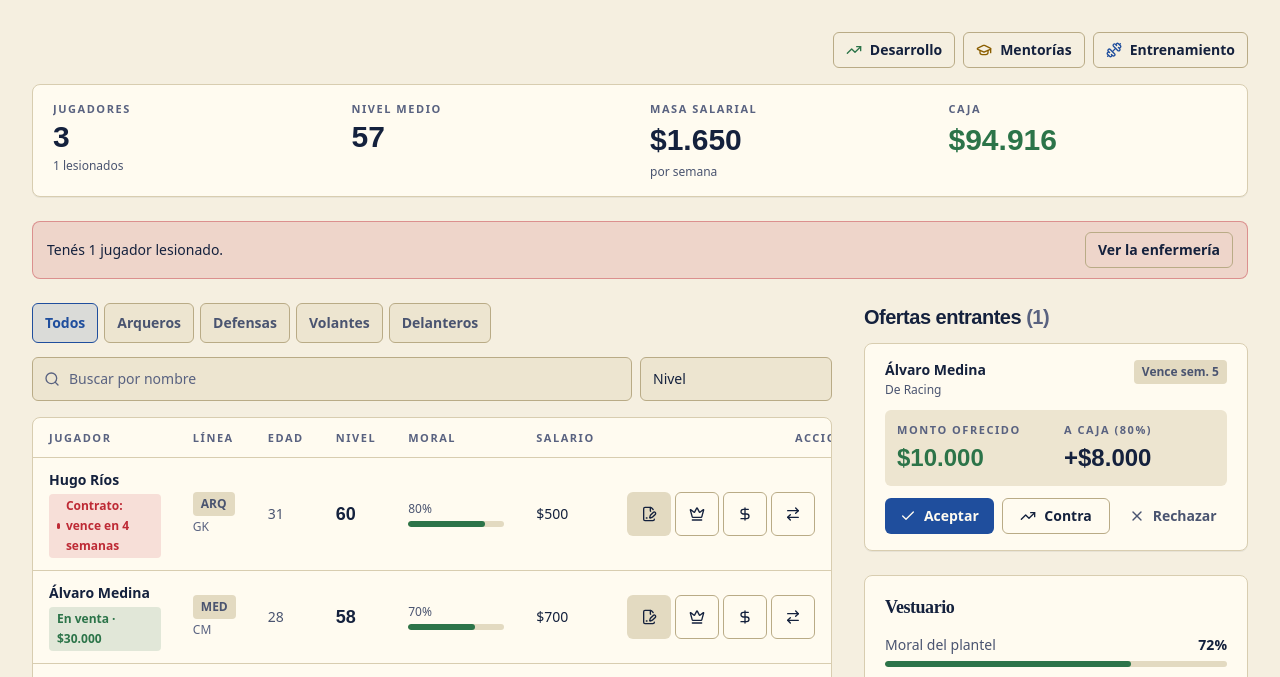
Scenario: pantalla Plantel › filtra por línea y por búsqueda (sin tildes) y permite quitar los filtros
Click the radio button labelled "Arqueros" at (149, 322), box [104,302,194,342]
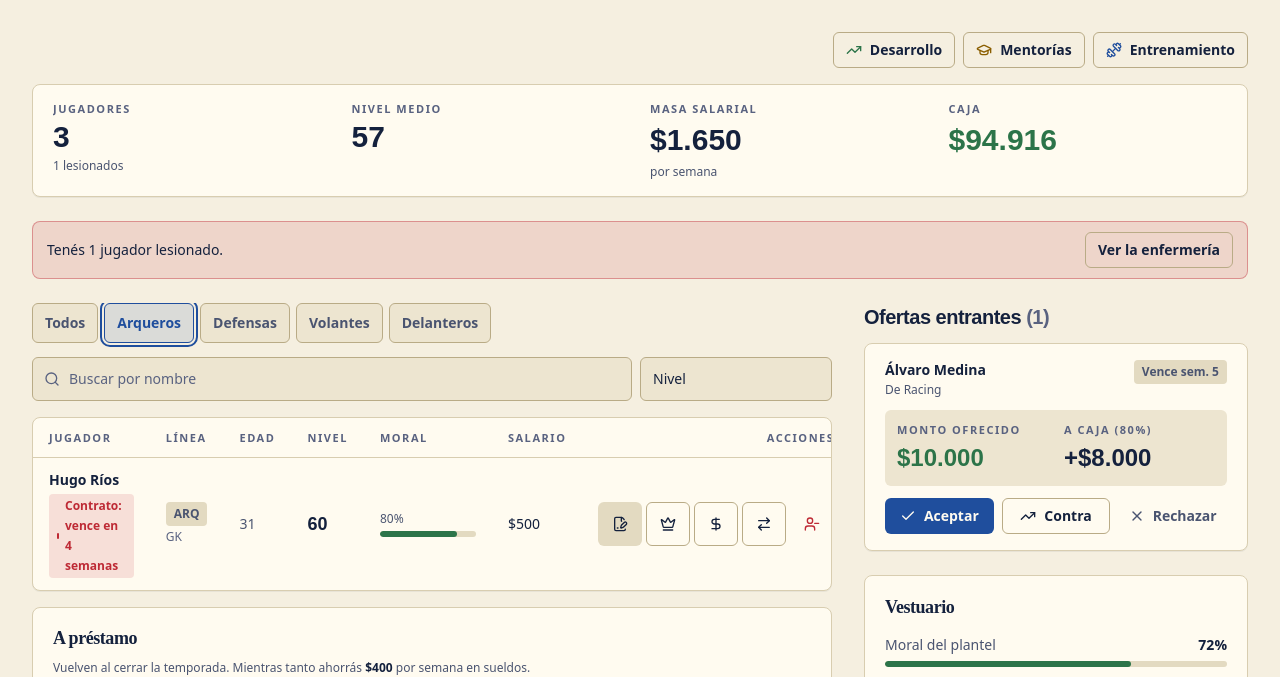
expect the number of rows is 2: met, box [33,418,831,458]; [33,458,831,590]
expect the text "Hugo Ríos" is shown: met, box [49,470,119,489]
Click the radio button labelled "Todos" at (65, 322), box [32,302,98,342]
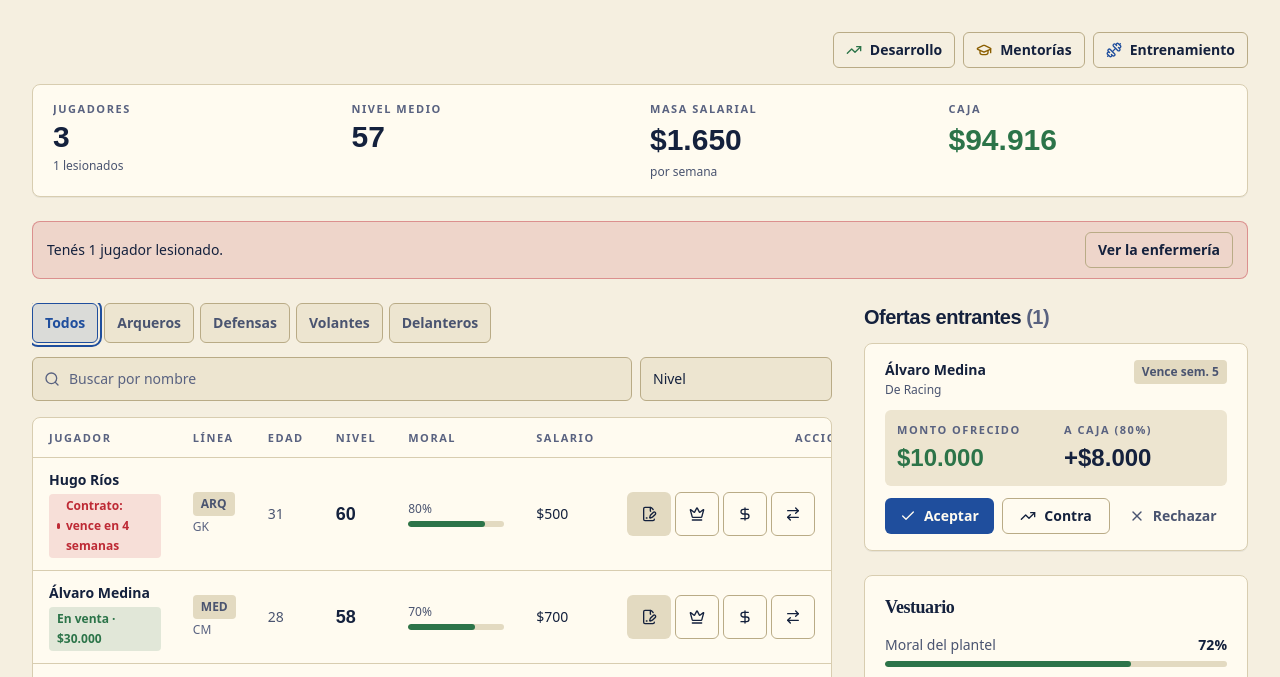
Type "alvaro" into the search field named "Buscar jugador" at (332, 378), box [32,356,632,400]
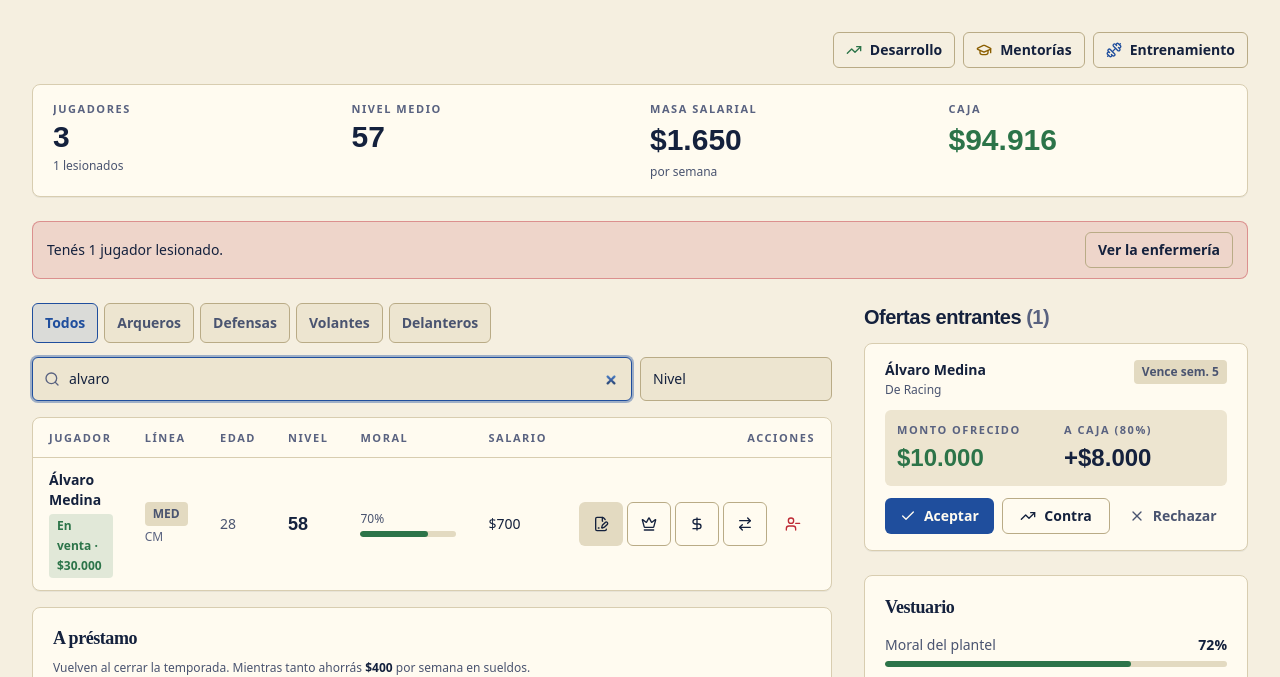
expect the number of rows is 2: met, box [33,418,831,458]; [33,458,831,590]
Replace the text in the search field with "zzz" at (332, 378), box [32,356,632,400]
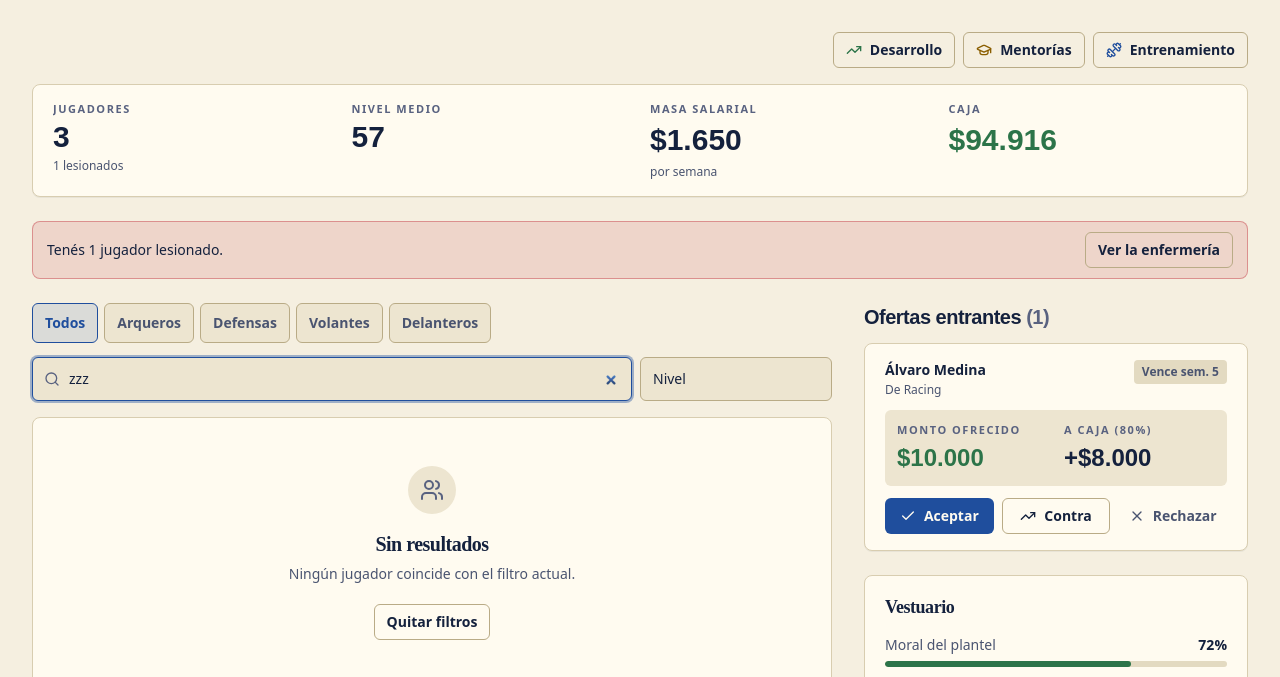
expect the heading "Sin resultados" is shown: met, box [375,530,489,558]
Click the button "Quitar filtros" at (432, 622), box [374,604,490,640]
(page scrolled)
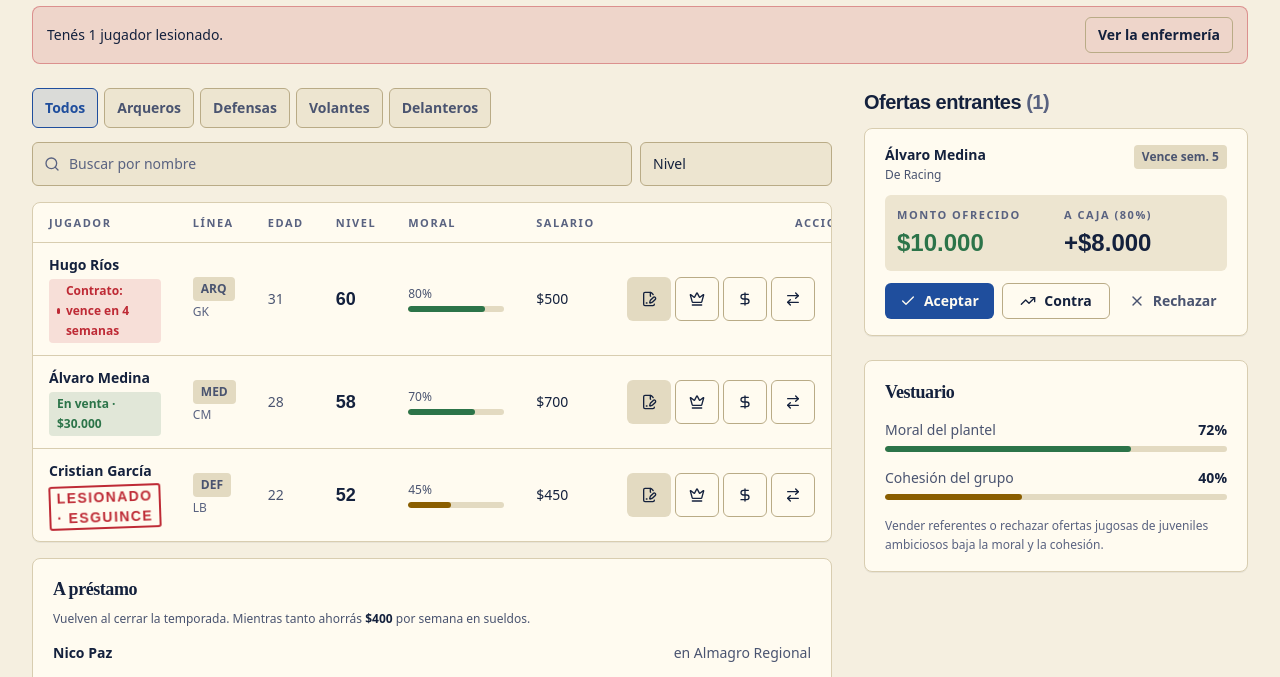
expect the table is shown: met, box [33,202,831,541]
